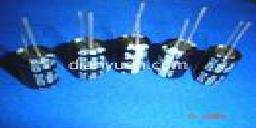Electrolytic-Capacitor: (11, 12, 60, 98), (157, 3, 208, 84), (67, 4, 109, 85), (118, 2, 151, 78)
